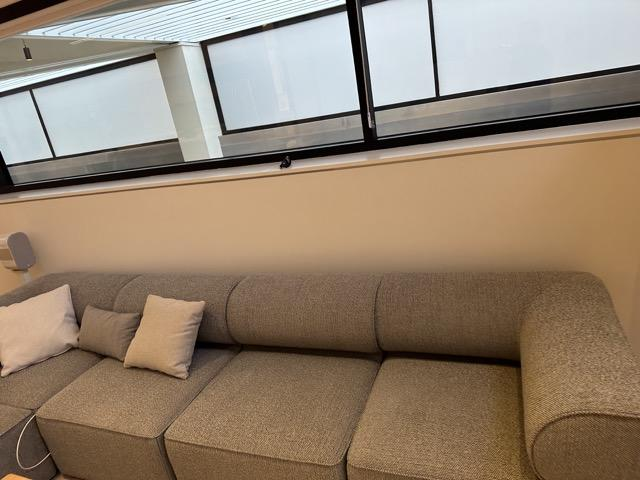Sunglasses: (279, 153, 292, 172)
